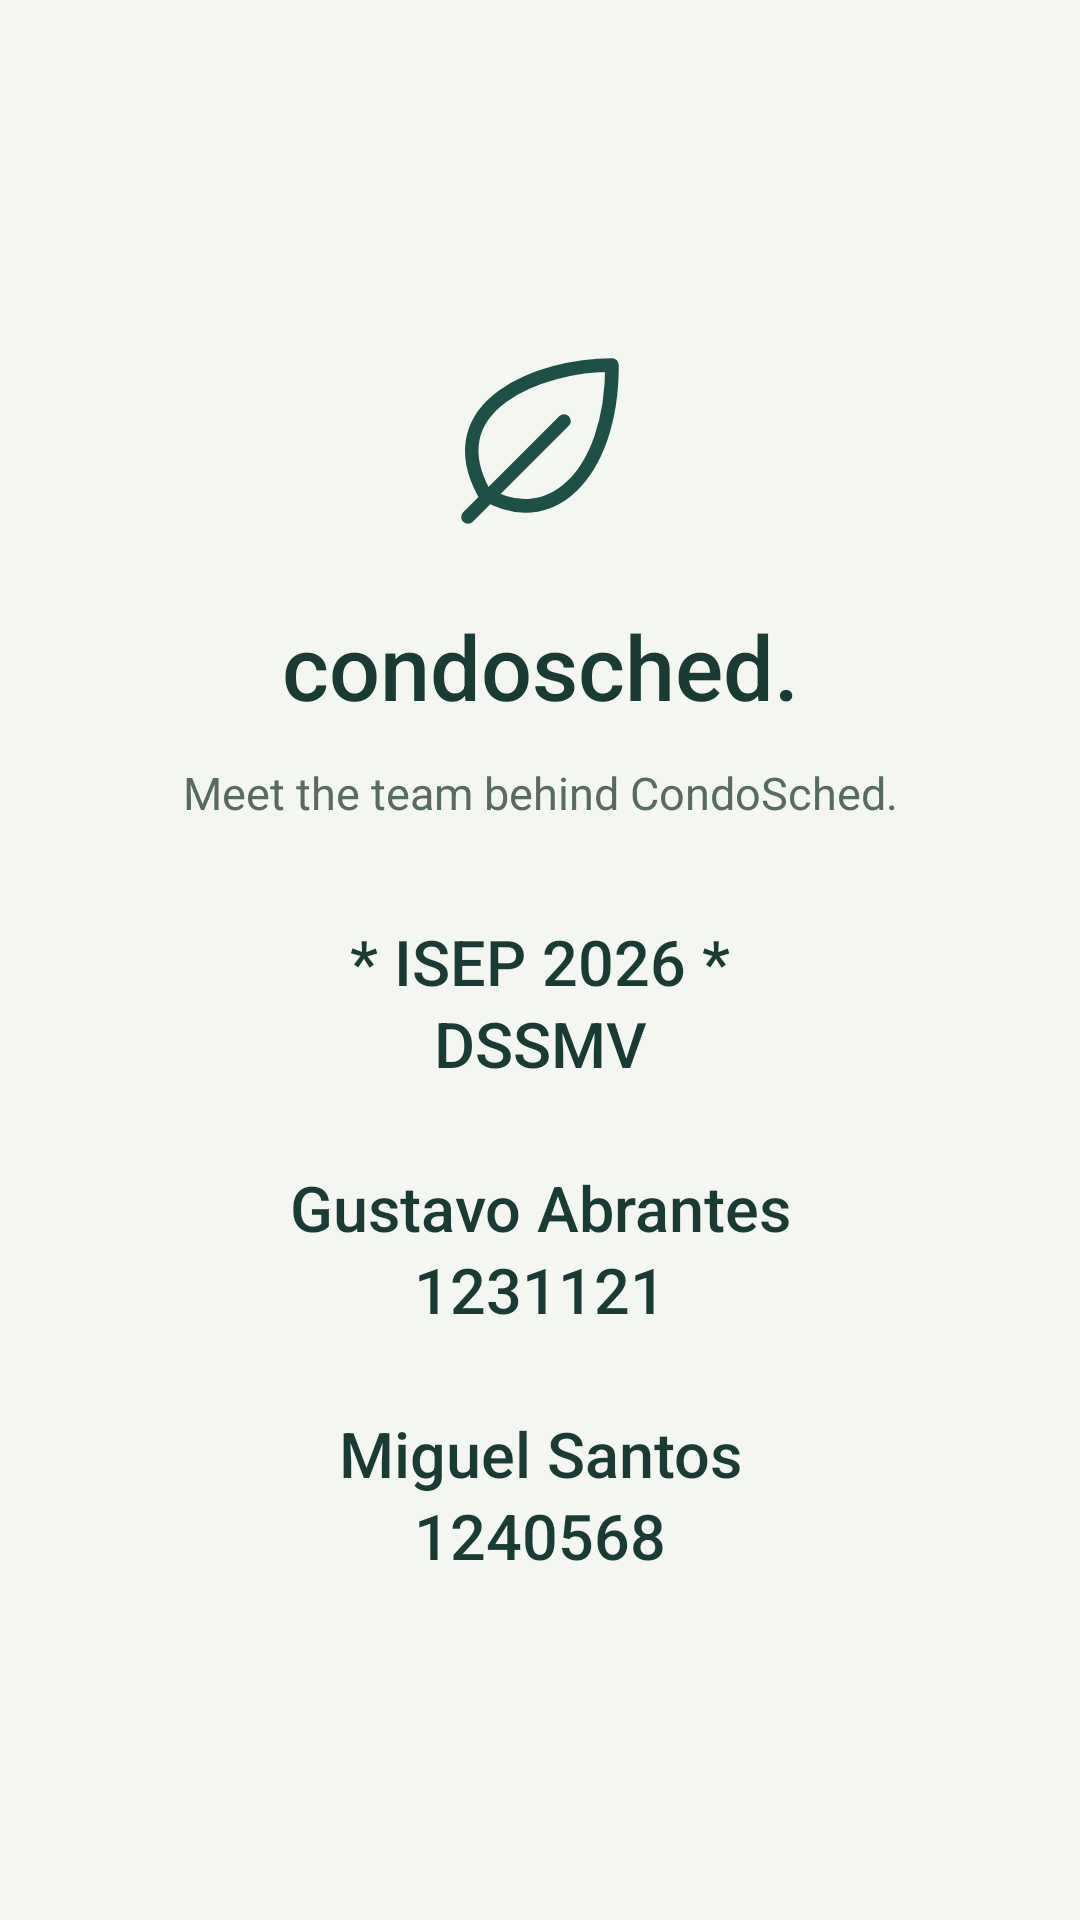

Icons on this 1080w x 1920h Android screen, each with its box as (x1, y1, x2, y2):
leaf: (461, 358, 619, 524)
